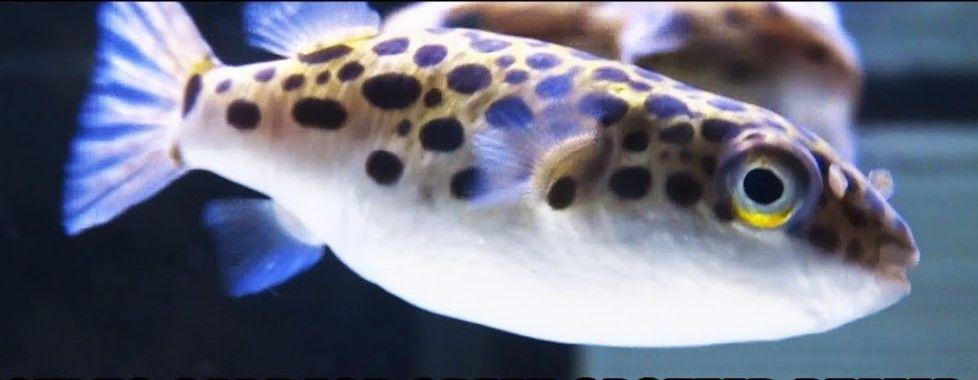Green Spotted Puffer: (65, 3, 921, 352)
